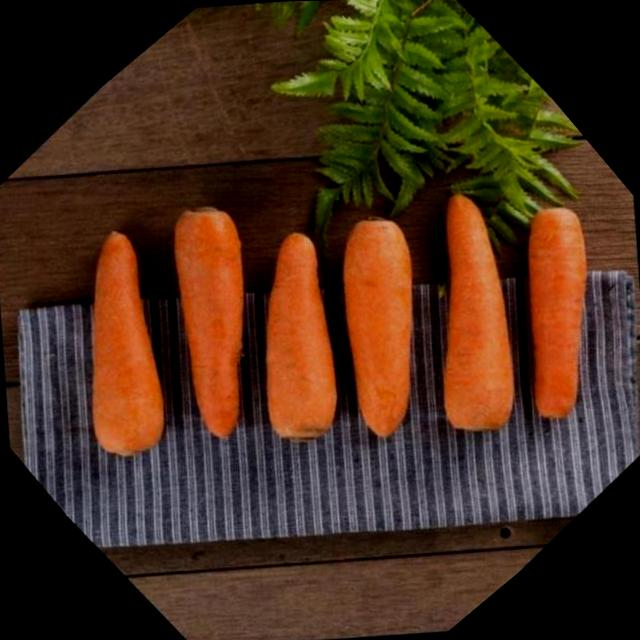carrot: (91, 231, 164, 455), (444, 194, 512, 430), (174, 207, 243, 438), (343, 219, 413, 436), (266, 232, 336, 439), (527, 208, 587, 417)
